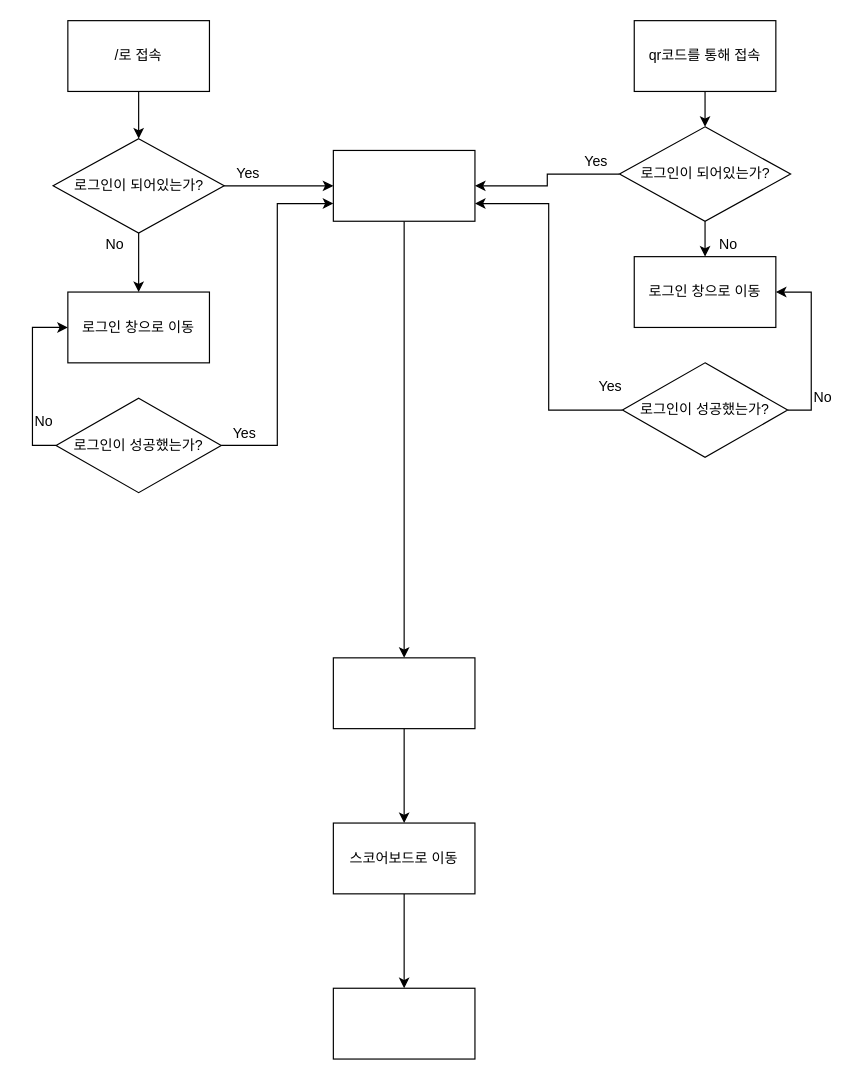
This 866x1080 diagram has some shape labels left out. The box of each missing label's shape, as (x1, y1, x2, y2) in pixels:
QR코드 생성: (332, 149, 475, 221)
게임 창으로 이동: (332, 657, 475, 729)
리더보드로 이동: (332, 987, 475, 1059)
